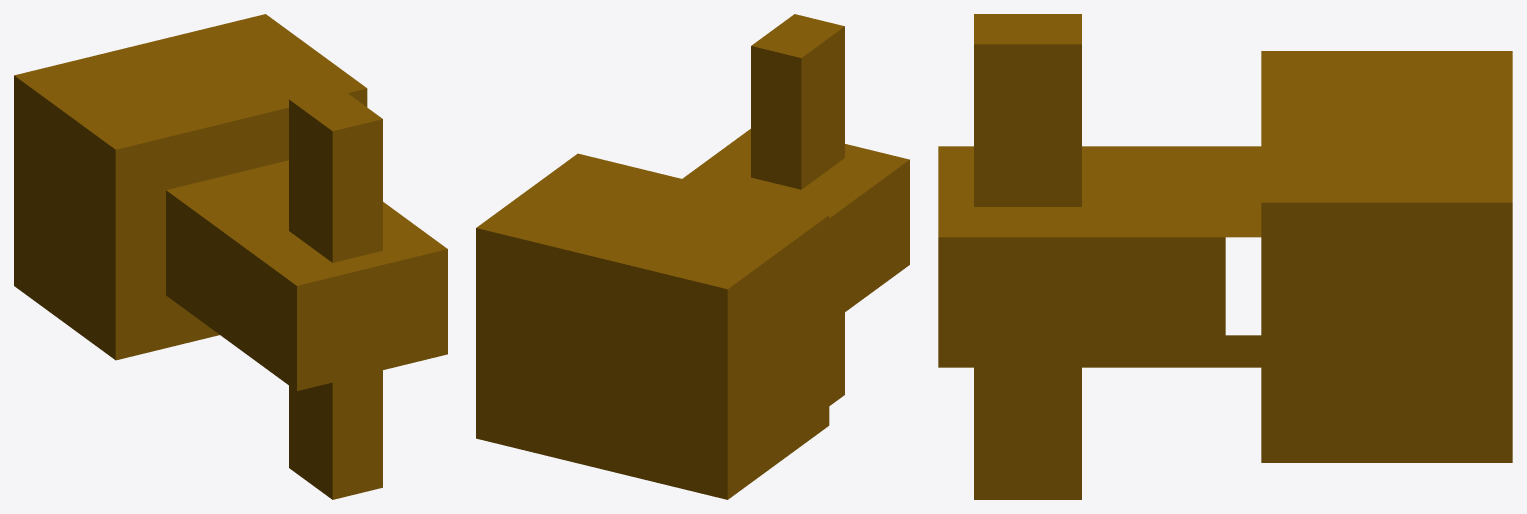
File: panz_rocket.gltf
3 renders of one model, left to right at view 1: azimuth 30°, elevation 25°; view 2: azimuth 150°, elevation 25°; view 3: azimuth 270°, elevation 25°, orthographic. The views are drawn at different scales.
Parts seen in each view (by area): view 1: cube (×3); view 2: cube (×3); view 3: cube (×3).
Boxes of the visible parts, x1,y1,x2,y2 form: cube (×3): (14, 14, 447, 499); cube (×3): (476, 14, 909, 499); cube (×3): (938, 14, 1512, 499).
Size of the model in its own units: 0.625 by 0.875 by 1.
1 material, 1 textured.
